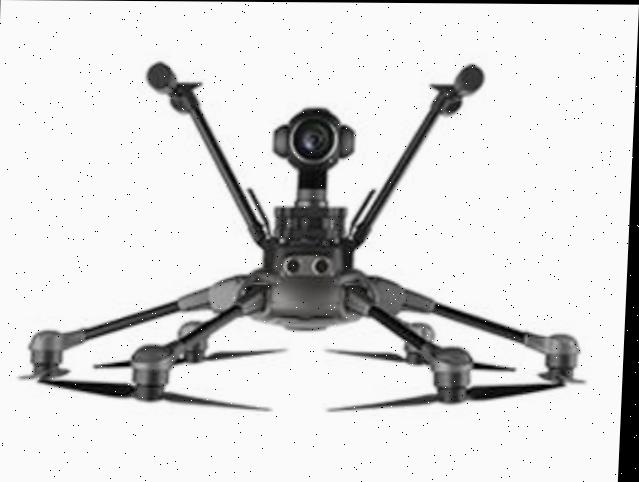drone: (0, 0, 639, 454)
